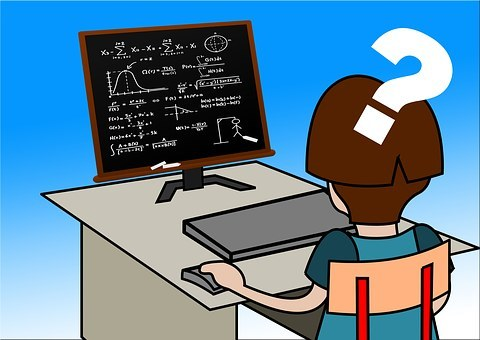person: (189, 68, 446, 334)
tvmonitor: (74, 17, 280, 203)
